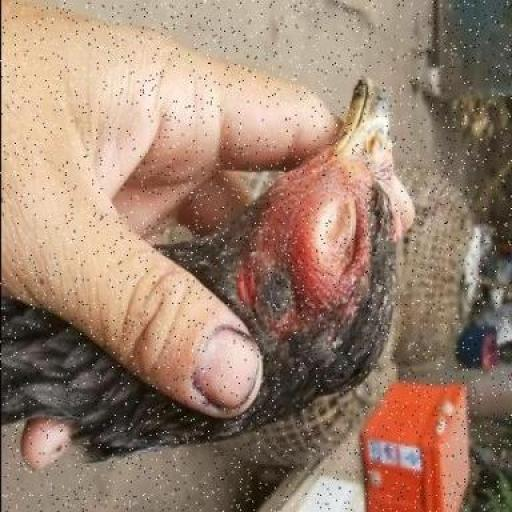disease: (265, 127, 402, 376)
